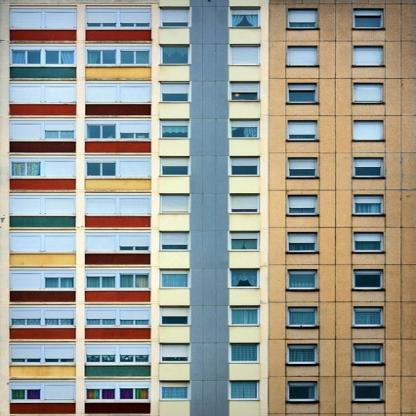Building Outline: (0, 0, 416, 416)
Facade: (0, 0, 416, 416)
Floor: (0, 110, 416, 145), (0, 148, 416, 183), (0, 0, 416, 34), (0, 186, 416, 220), (0, 223, 416, 257), (0, 261, 416, 295), (0, 298, 416, 332), (0, 336, 416, 370), (0, 373, 416, 407), (0, 38, 416, 71), (0, 74, 416, 107), (0, 409, 416, 416)
Floor Slab: (0, 407, 416, 410), (0, 35, 416, 38), (0, 71, 416, 74), (0, 108, 416, 111), (0, 145, 416, 148), (0, 183, 416, 186), (0, 220, 416, 223), (0, 258, 416, 261), (0, 295, 416, 298), (0, 333, 416, 336), (0, 370, 416, 373)
Window: (85, 8, 151, 28), (10, 46, 76, 66), (85, 46, 151, 66), (10, 83, 76, 103), (85, 83, 151, 103), (10, 120, 76, 140), (85, 120, 151, 140), (10, 157, 76, 177), (85, 157, 151, 177), (10, 195, 76, 215), (85, 195, 151, 215), (10, 232, 76, 252), (85, 232, 151, 252), (10, 8, 76, 28), (10, 382, 76, 401), (85, 382, 151, 401), (10, 270, 76, 289), (85, 270, 151, 289), (10, 307, 76, 326), (85, 307, 151, 326), (10, 344, 76, 363), (85, 344, 151, 363), (160, 380, 190, 399), (353, 381, 383, 400), (230, 9, 260, 28), (160, 9, 190, 28), (230, 46, 260, 65), (160, 46, 190, 65), (230, 380, 260, 399), (160, 82, 190, 101), (230, 82, 260, 101), (160, 119, 190, 138), (230, 119, 260, 138), (160, 156, 190, 175), (230, 156, 260, 175), (160, 194, 190, 213), (230, 194, 260, 213), (160, 232, 190, 251), (230, 232, 260, 251), (160, 269, 190, 288), (230, 269, 260, 288), (160, 306, 190, 325), (230, 306, 260, 325), (160, 343, 190, 362), (230, 343, 260, 362), (353, 9, 383, 28), (353, 46, 383, 65), (353, 83, 383, 102), (353, 120, 383, 139), (353, 157, 383, 176), (353, 195, 383, 214), (353, 232, 383, 251), (353, 269, 383, 288), (353, 307, 383, 326), (353, 344, 383, 363), (288, 381, 317, 400), (288, 9, 317, 28), (288, 46, 317, 65), (288, 83, 317, 102), (288, 120, 317, 139), (288, 157, 317, 176), (288, 195, 317, 214), (288, 232, 317, 251), (288, 269, 317, 288), (288, 307, 317, 326), (288, 344, 317, 363)
